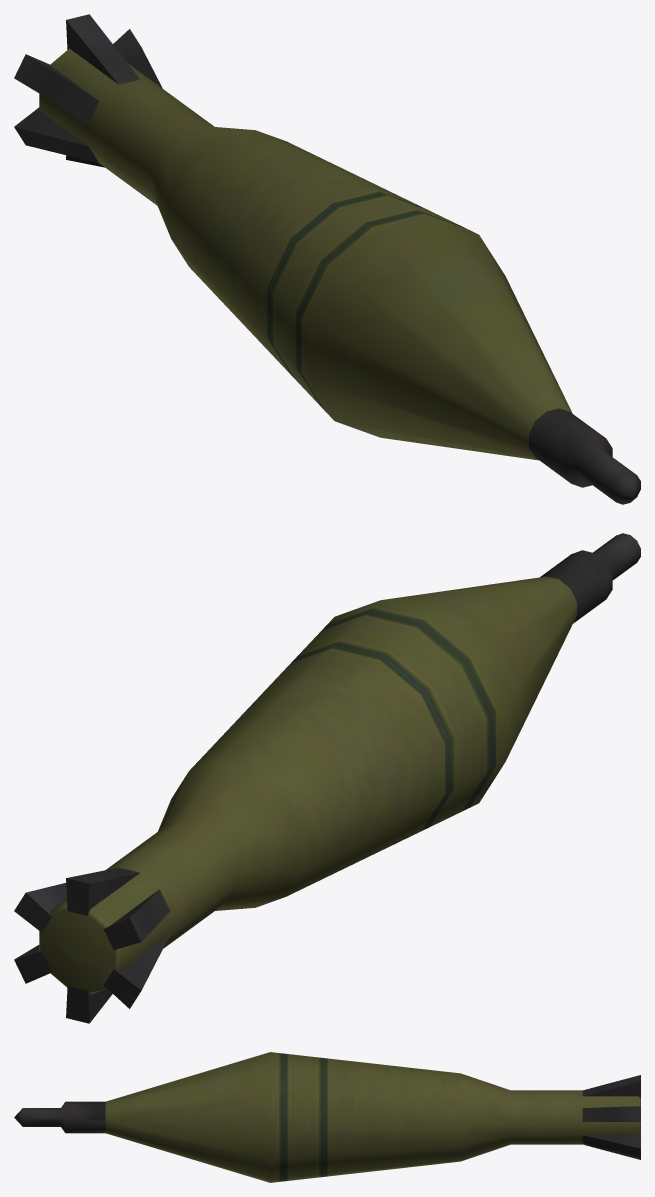
File: dantou.fbx
3 views of the same model, one above another, from view 1: azimuth 30°, elevation 25°; view 2: azimuth 150°, elevation 25°; view 3: azimuth 270°, elevation 25° (orthographic). The views are drawn at different scales.
Visible parts, largest first — view 1: zidan; view 2: zidan; view 3: zidan.
Boxes of the visible parts, x1,y1,x2,y2 form: zidan: (14, 14, 640, 504); zidan: (14, 533, 640, 1023); zidan: (14, 1052, 640, 1182).
Bounding box in the file's own units: 9.83 × 9.83 × 48.02.
1 material, 1 textured.
